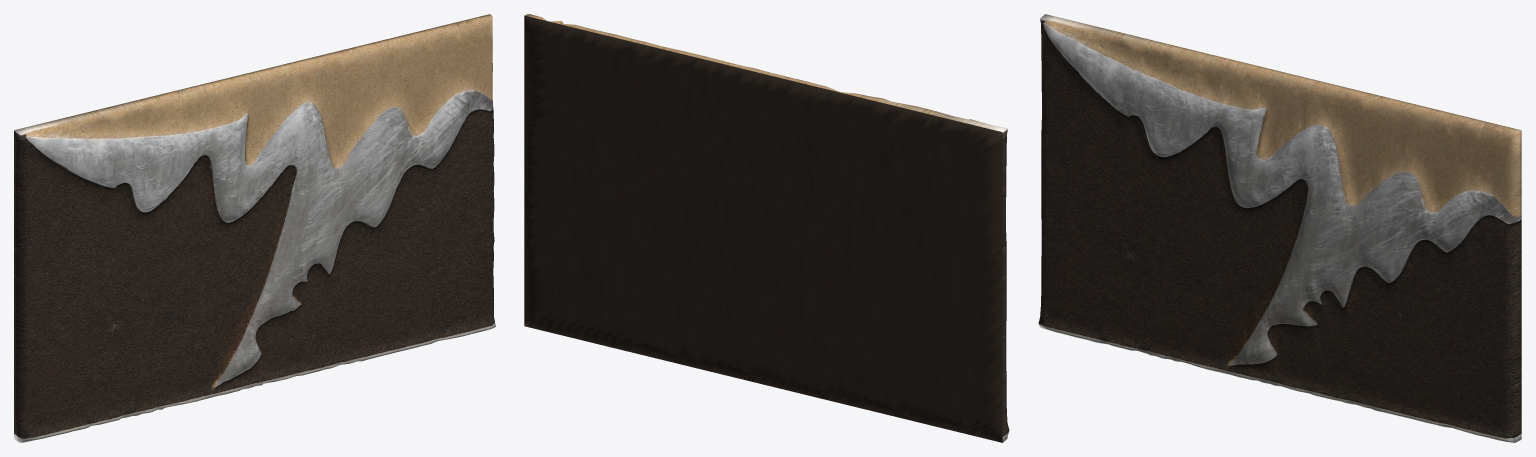
The model's file is escultura-esc-003.glb.
The picture shows the model from 3 angles, left to right: view 1: azimuth 30°, elevation 25°; view 2: azimuth 150°, elevation 25°; view 3: azimuth 330°, elevation 25°; orthographic projection.
Parts seen in each view (by area): view 1: world; view 2: world; view 3: world.
Part boxes in pixels (box(x1,y1,x2,y2)): world: box(14, 14, 495, 442); world: box(524, 14, 1009, 442); world: box(1038, 14, 1521, 442).
Bounding box in the file's own units: 0.58 × 0.36 × 0.0236.
Materials: 1 (1 with a texture image).
